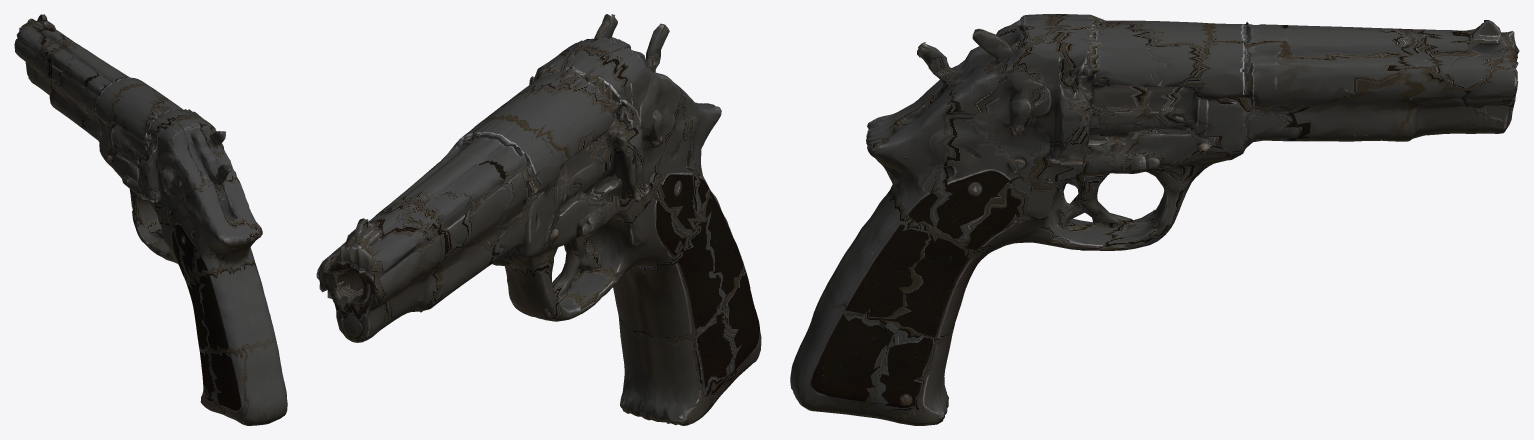
The model's file is مسدس.glb.
3 renders of one model, left to right at view 1: azimuth 30°, elevation 25°; view 2: azimuth 150°, elevation 25°; view 3: azimuth 270°, elevation 25°, orthographic. The views are drawn at different scales.
Parts seen in each view (by area): view 1: tripo_node_4b3043c6-bf6e-41b1-8658-247db2923511; view 2: tripo_node_4b3043c6-bf6e-41b1-8658-247db2923511; view 3: tripo_node_4b3043c6-bf6e-41b1-8658-247db2923511.
Boxes of the visible parts, box(x1,y1,x2,y2) form: tripo_node_4b3043c6-bf6e-41b1-8658-247db2923511: box(14, 14, 287, 425); tripo_node_4b3043c6-bf6e-41b1-8658-247db2923511: box(316, 14, 761, 425); tripo_node_4b3043c6-bf6e-41b1-8658-247db2923511: box(790, 14, 1519, 425).
Bounding box in the file's own units: 0.183 × 0.5964 × 0.999.
1 material, 1 textured.
